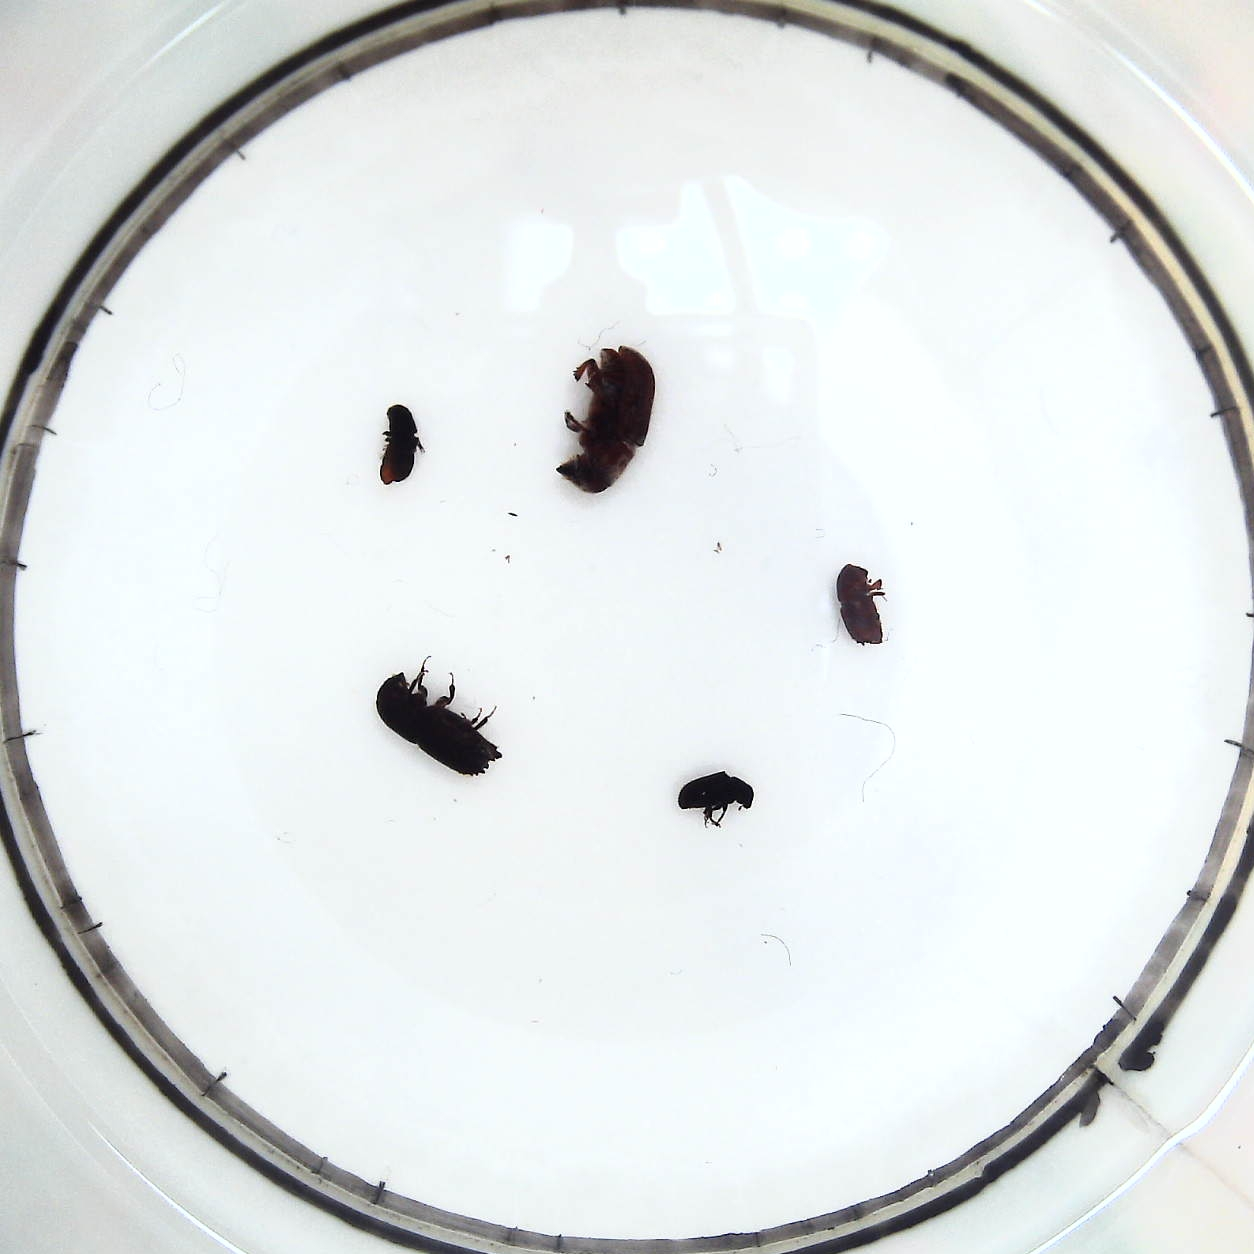Boerner: (377, 659, 506, 777)
Leconte: (552, 339, 661, 500)
armandi: (374, 398, 423, 490)
coleoptera: (667, 768, 764, 834)
linnaeus: (828, 556, 891, 655)
